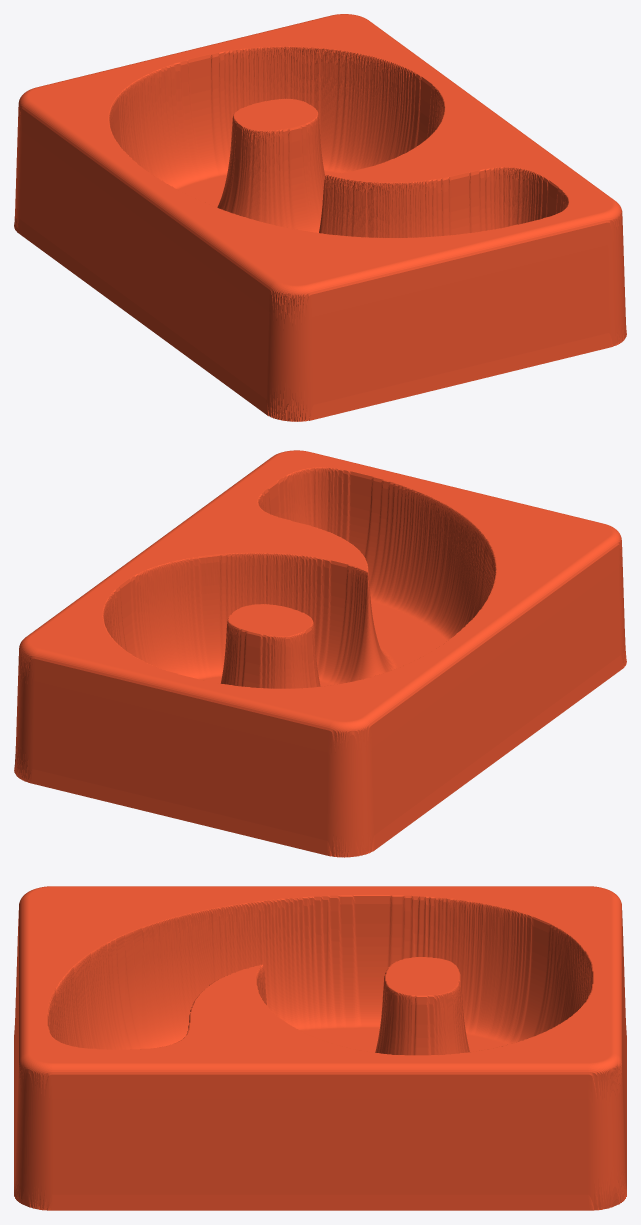
Rendered from mold.glb.
The picture shows the model from 3 angles, top to bottom: view 1: azimuth 30°, elevation 25°; view 2: azimuth 150°, elevation 25°; view 3: azimuth 270°, elevation 25°; orthographic projection. The views are drawn at different scales.
Visible parts, largest first — view 1: geometry_0; view 2: geometry_0; view 3: geometry_0.
Part boxes in pixels (<box>): geometry_0: <box>14,14,626,421</box>; geometry_0: <box>14,450,626,857</box>; geometry_0: <box>14,886,626,1210</box>.
Size of the model in its own units: 0.1046 by 0.0365 by 0.1435.
